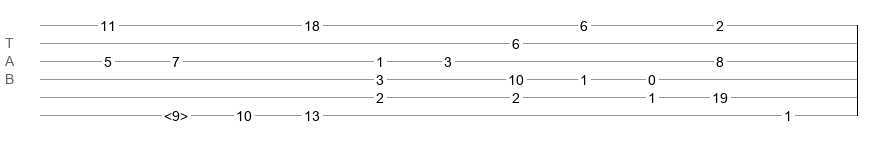0: (648, 72, 656, 82)
1: (376, 54, 384, 64), (580, 72, 588, 82), (648, 90, 656, 100), (784, 108, 792, 118)
10: (236, 108, 252, 118), (508, 72, 524, 82)
11: (100, 18, 116, 28)
13: (304, 108, 320, 118)
18: (304, 18, 320, 28)
19: (712, 90, 728, 100)
2: (376, 90, 384, 100), (512, 90, 520, 100), (716, 18, 724, 28)
3: (376, 72, 384, 82), (444, 54, 452, 64)
5: (104, 54, 112, 64)
6: (512, 36, 520, 46), (580, 18, 588, 28)
7: (172, 54, 180, 64)
8: (716, 54, 724, 64)
harmonic: (164, 108, 188, 118)
